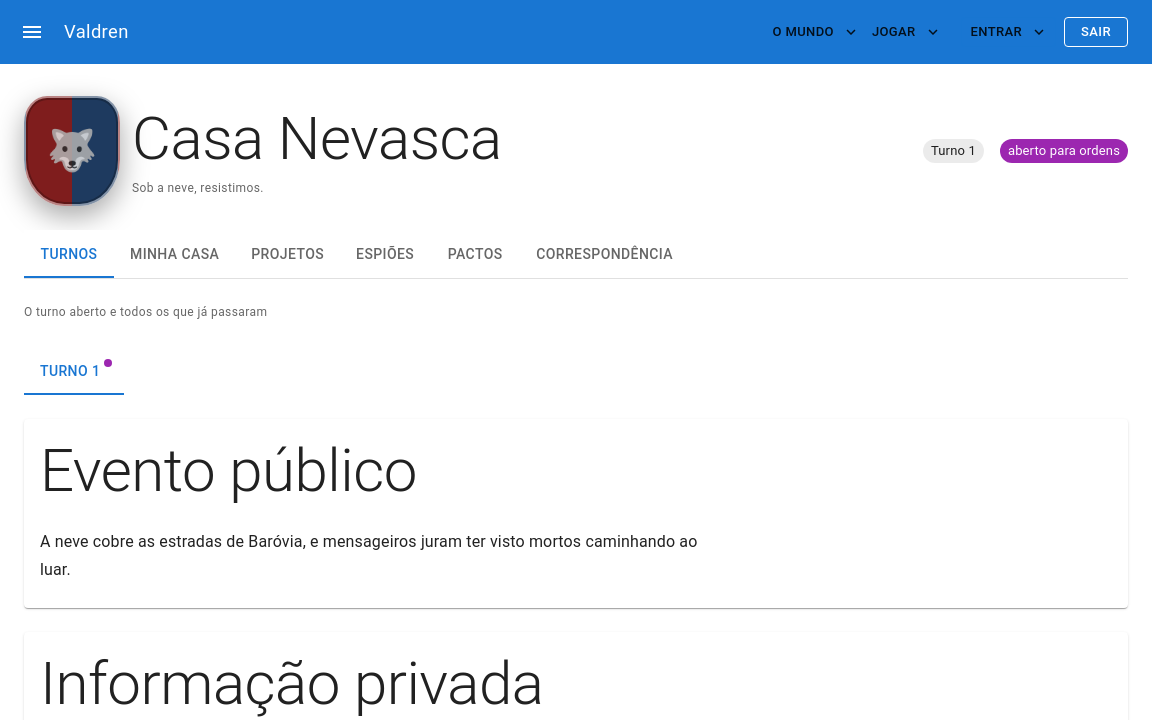
Test: GamePage › agrupa ativo repetido num chip só, com a contagem
Click the tab "Minha Casa": [175, 254] box [114, 230, 235, 278]
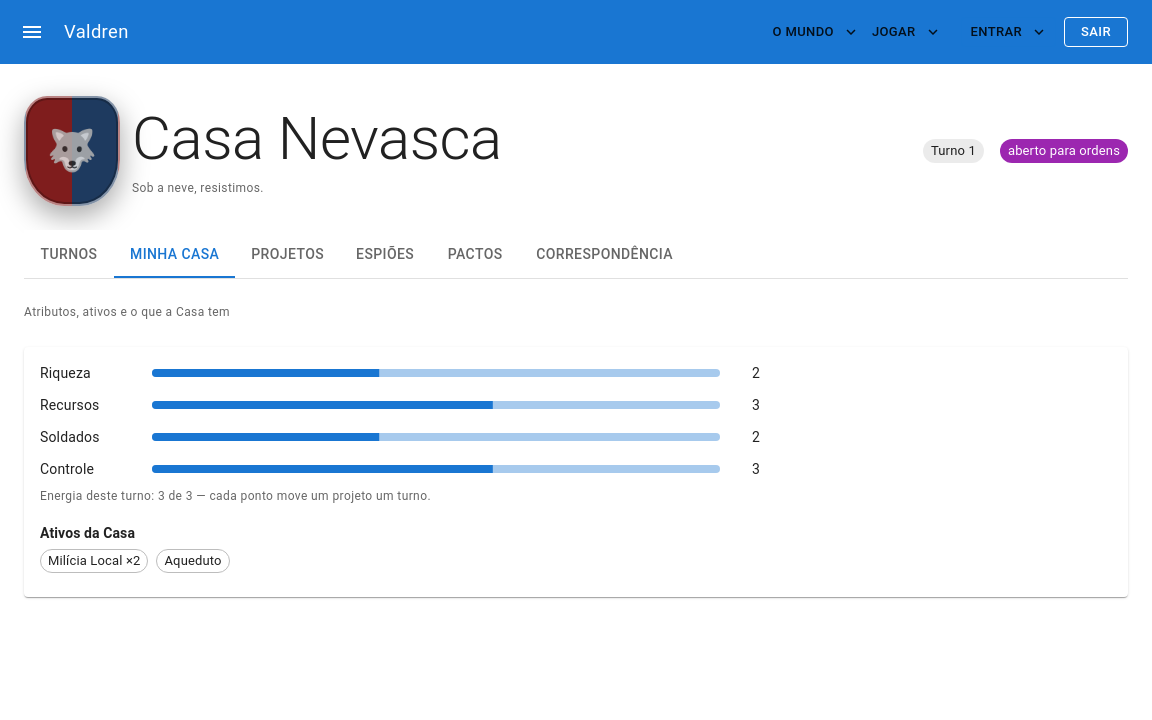
Expected: the text "Milícia Local ×2" is shown, [41, 552, 148, 571]
Expected: the text "Aqueduto" is shown, [164, 554, 222, 568]
